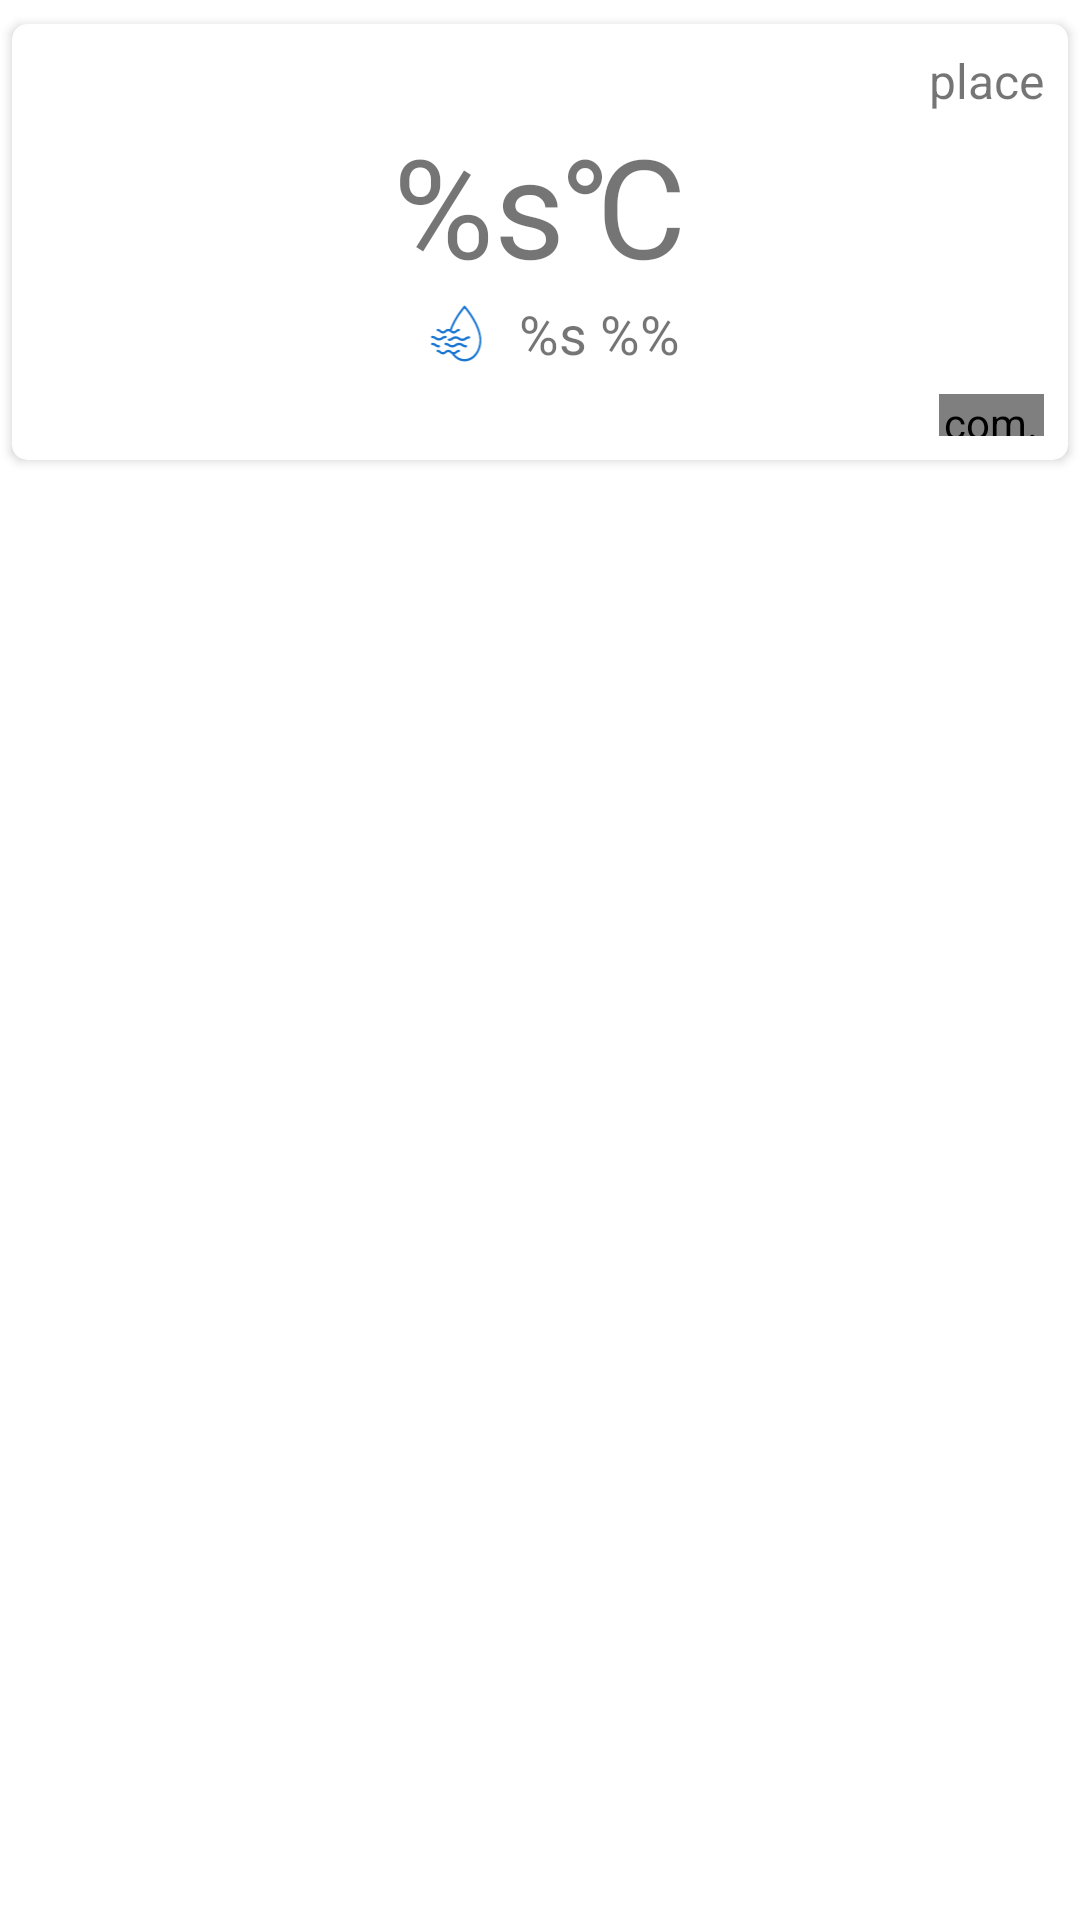

Named icons in this screenshot (1080*1920) and their centers, [x,y]:
humidity: [456,333]
